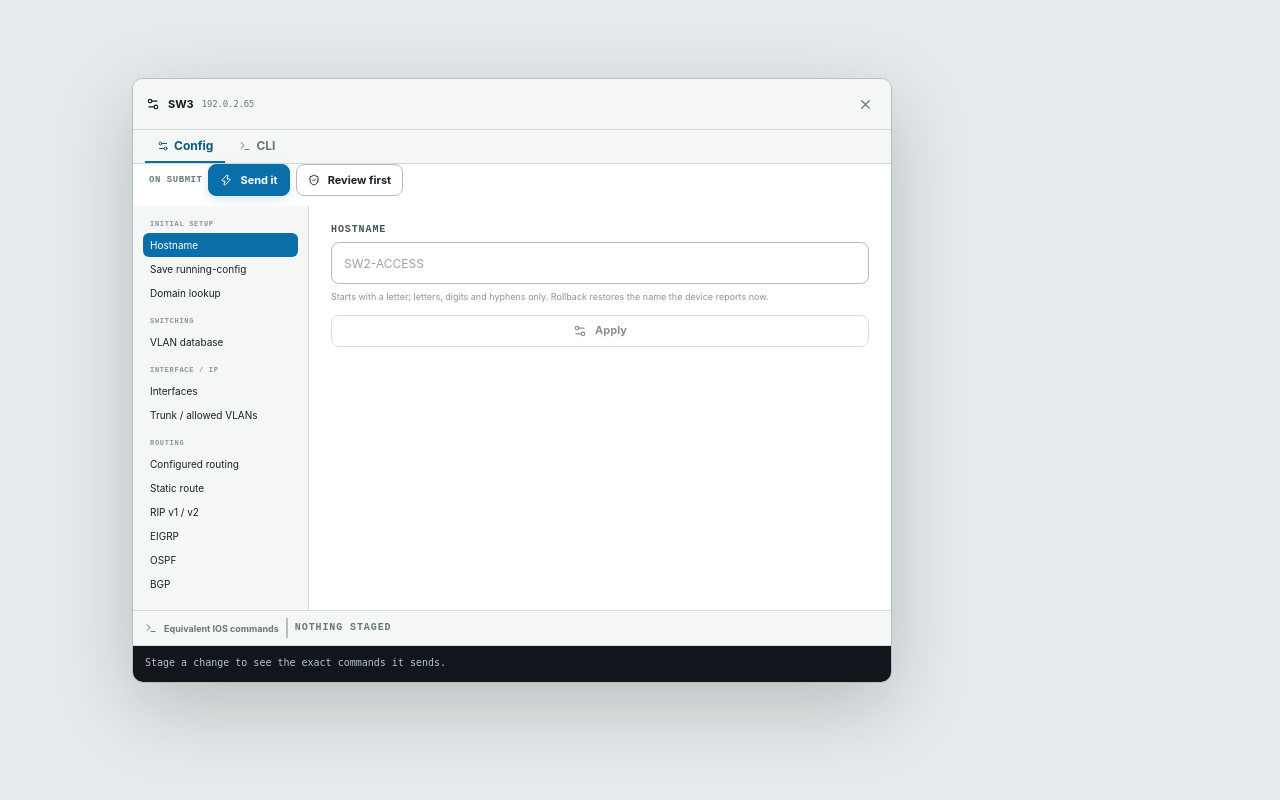
Test: Packet Tracer-style device config window › says the prefix length is required before the operator omits it
This screenshot has width=1280, height=800.
Click the button "Static route" at [220, 488], box [143,476,298,500]
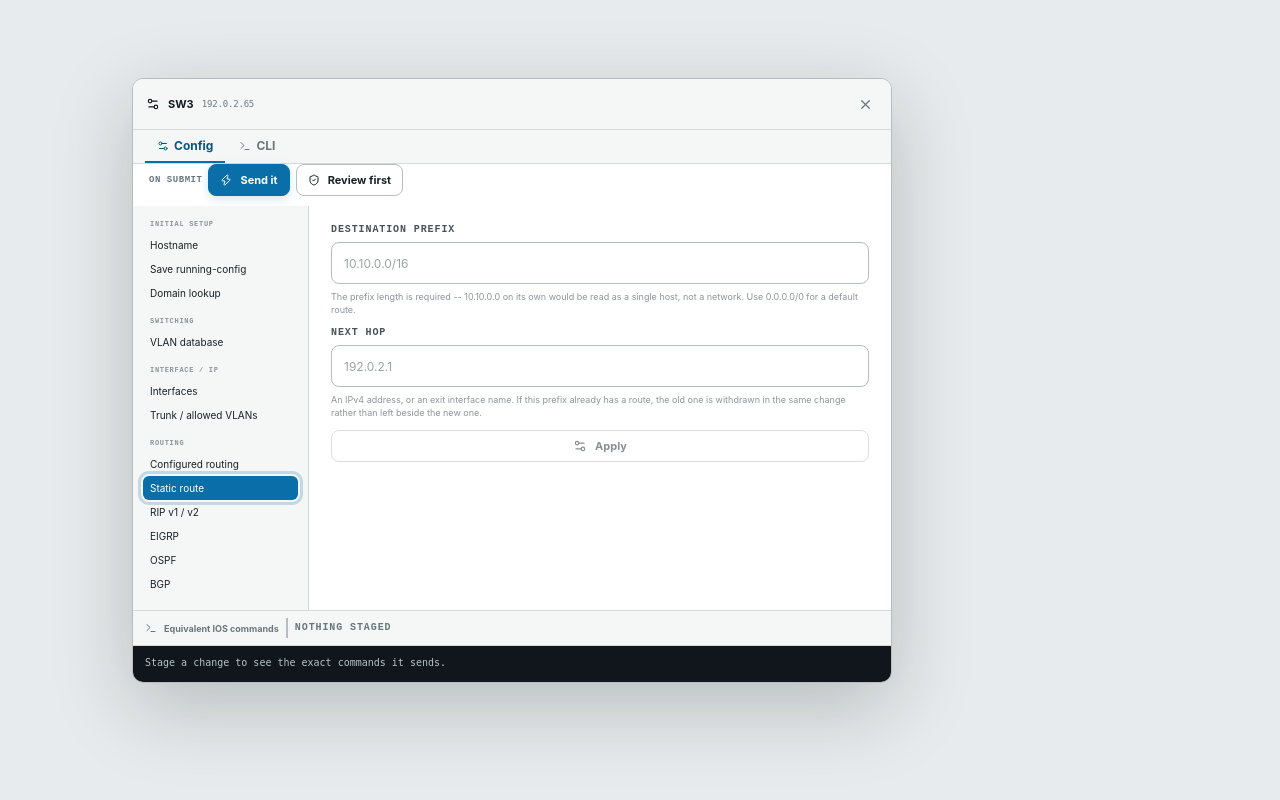
Result: the text "prefix length is required" is shown at [331,291,858,315]
